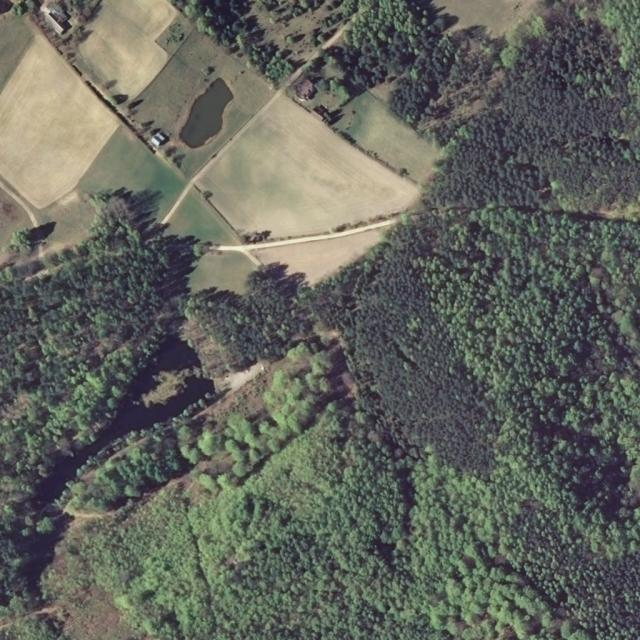agricultural_land: (187, 82, 423, 305), (114, 19, 276, 182), (74, 125, 190, 239), (159, 186, 243, 272), (159, 189, 240, 271), (165, 189, 247, 266), (190, 252, 256, 293), (191, 255, 252, 289), (3, 17, 29, 62)
greenland: (0, 181, 235, 640), (175, 0, 640, 218), (146, 328, 371, 512), (169, 254, 329, 388), (181, 255, 328, 383), (57, 433, 175, 530), (158, 188, 239, 271)
wetland: (70, 0, 180, 106), (176, 72, 241, 155)
